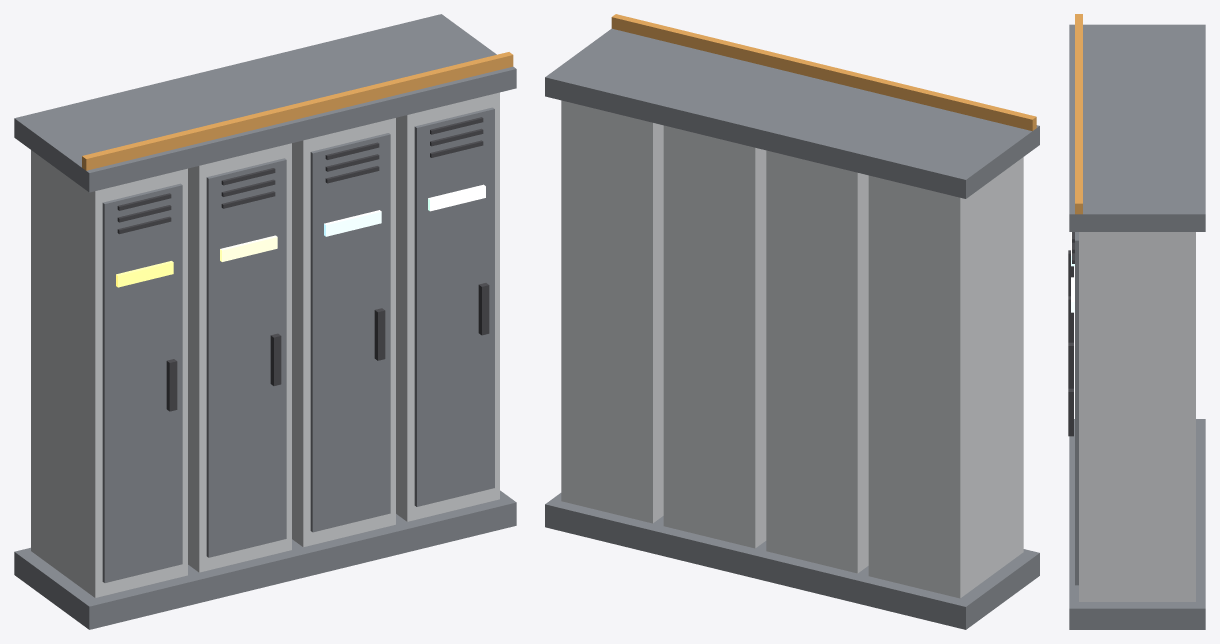
Rendered from locker.glb.
3 views of the same model, side by side, from view 1: azimuth 30°, elevation 25°; view 2: azimuth 150°, elevation 25°; view 3: azimuth 270°, elevation 25° (orthographic). The views are drawn at different scales.
Parts seen in each view (by area): view 1: lockers; view 2: lockers; view 3: lockers.
Boxes of the visible parts, x1=… form: lockers: x1=14, y1=14, x2=516, y2=629; lockers: x1=545, y1=14, x2=1039, y2=629; lockers: x1=1068, y1=14, x2=1205, y2=629.
Bounding box in the file's own units: 2.3 × 2.41 × 0.705.
